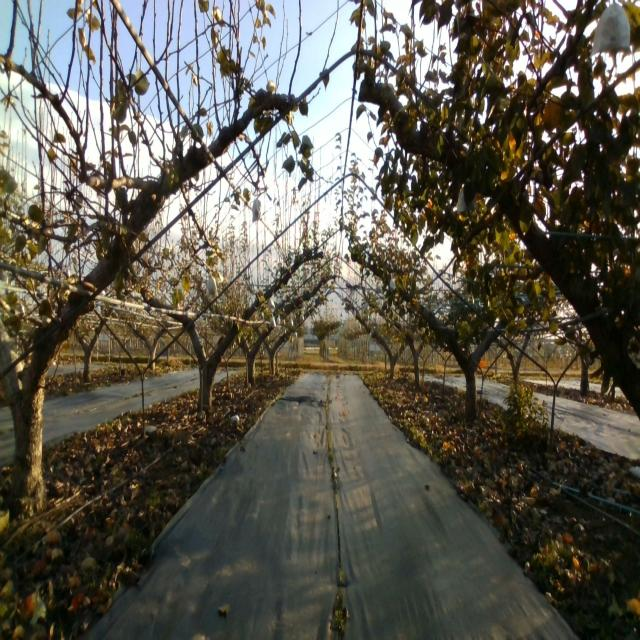pearbags: (589, 0, 633, 56), (205, 270, 218, 298)
